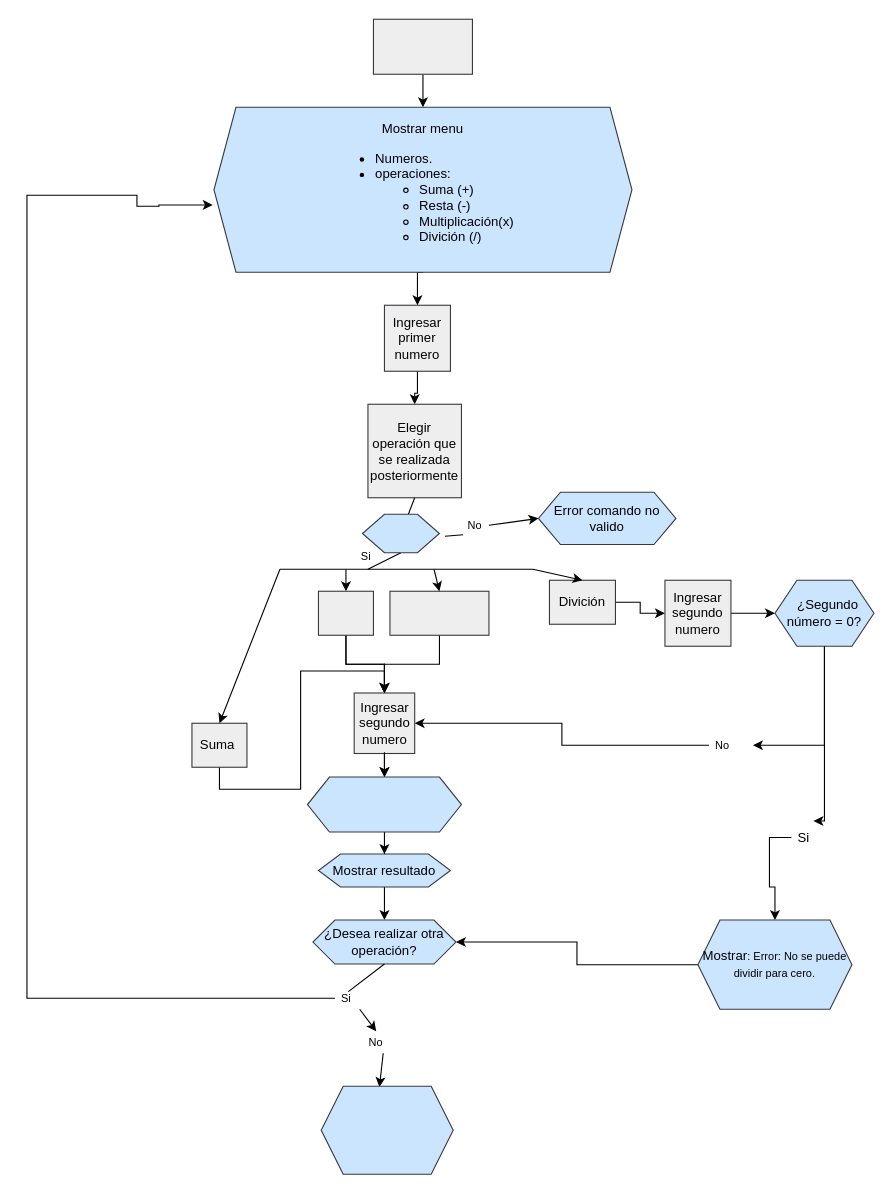
Some shapes in this 893 by 1194 pixel diagram are drawn without their labels. The box of each missing label's shape, as (x1, y1, x2, y2) in pixels:
Fin: Gracias por usar la calculadora.: (320, 1085, 453, 1174)
Inicio: (372, 18, 472, 74)
Multiplicación: (389, 590, 489, 635)
operación valida: (361, 513, 439, 553)
Realizar operación previamente seleccionada: (306, 776, 461, 832)
Resta: (317, 590, 373, 635)
